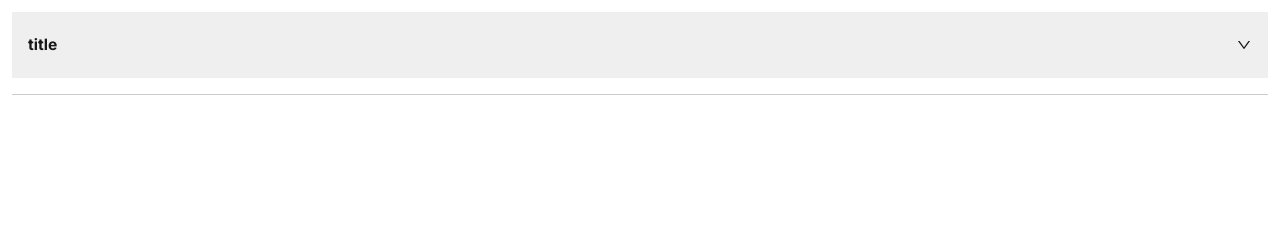
Test: Accordion › should expands the accordion content when clicked
What coordinates should you click on to do the following:
click the button
I would click on:
 (43, 45)
Its box is left=12, top=12, right=1268, bottom=78.
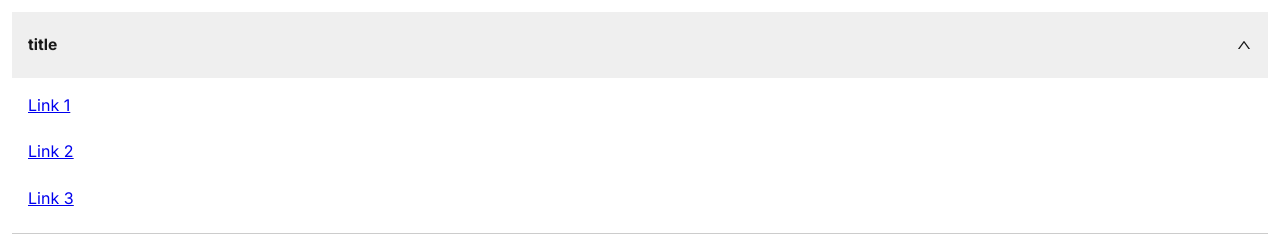
Check: the button is expanded, box left=12, top=12, right=1268, bottom=78
